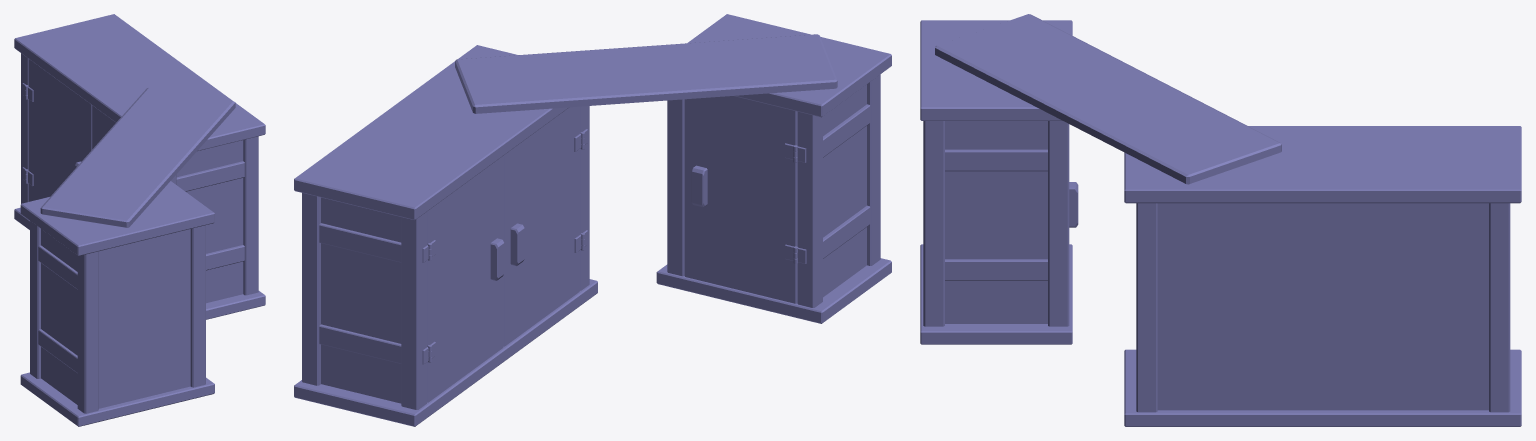
Rendered from DeskCabinet.fbx.
3 views of the same model, side by side, from view 1: azimuth 30°, elevation 25°; view 2: azimuth 150°, elevation 25°; view 3: azimuth 270°, elevation 25° (orthographic). The views are drawn at different scales.
Parts seen in each view (by area): view 1: DeskShelfes; view 2: DeskShelfes; view 3: DeskShelfes.
Part boxes in pixels (bbox=[...]): DeskShelfes: bbox=[14, 14, 265, 426]; DeskShelfes: bbox=[294, 14, 891, 426]; DeskShelfes: bbox=[920, 14, 1521, 426].
Bounding box in the file's own units: 132 × 89.23 × 197.
